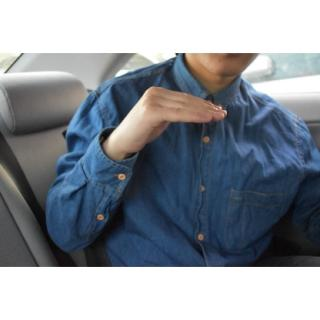HAA: (111, 83, 235, 157)
